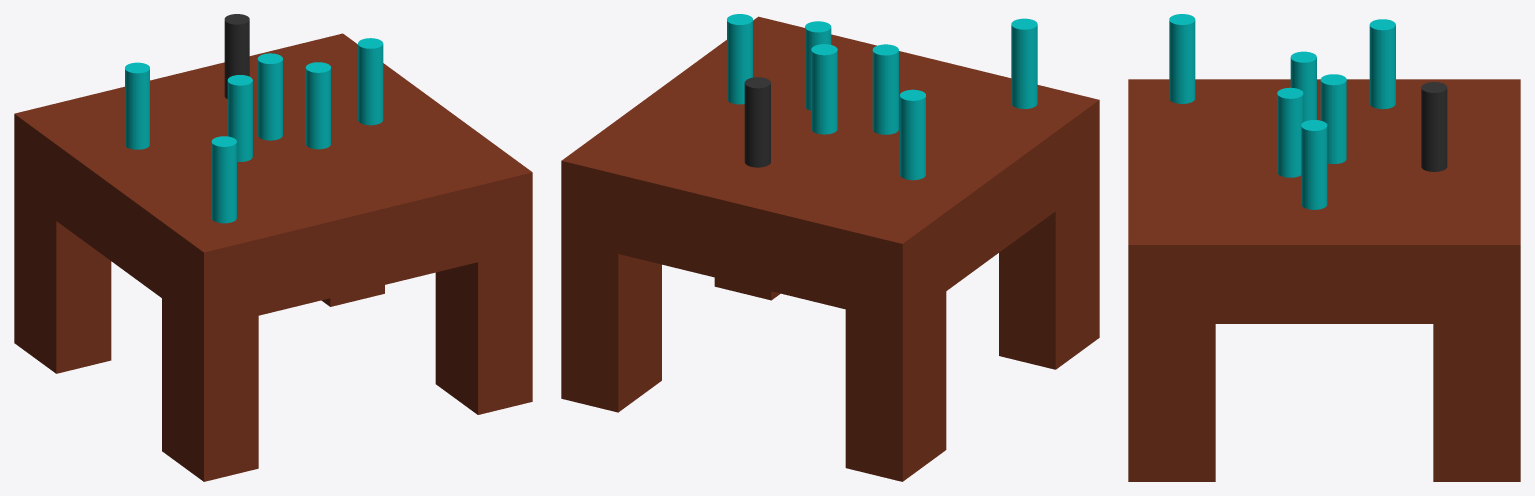
Rendered from can_world_7_cans.dae.
The picture shows the model from 3 angles, left to right: view 1: azimuth 30°, elevation 25°; view 2: azimuth 150°, elevation 25°; view 3: azimuth 270°, elevation 25°; orthographic projection. The views are drawn at different scales.
Parts seen in each view (by area): view 1: base (×12); view 2: base (×12); view 3: base (×10).
Part boxes in pixels (box(x1,y1,x2,y2)): base (×12): box(14, 14, 532, 481); base (×12): box(561, 14, 1099, 481); base (×10): box(1128, 14, 1520, 481).
Bounding box in the file's own units: 0.9 × 0.9 × 0.811.
